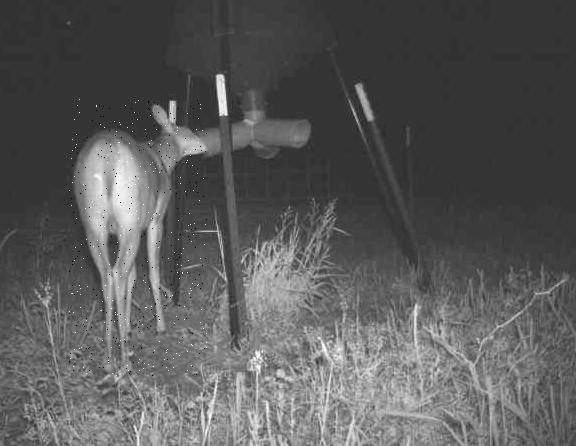Deer: (69, 99, 207, 377)
